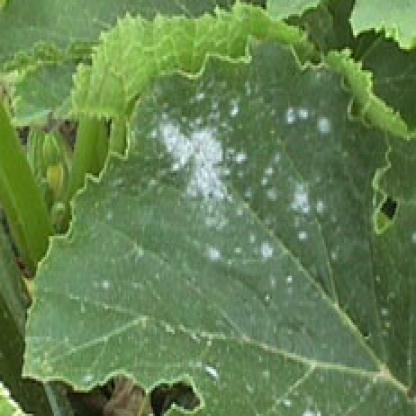squash powdery mildew leaf: (13, 21, 414, 414)
